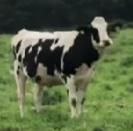cow: (11, 17, 123, 119)
